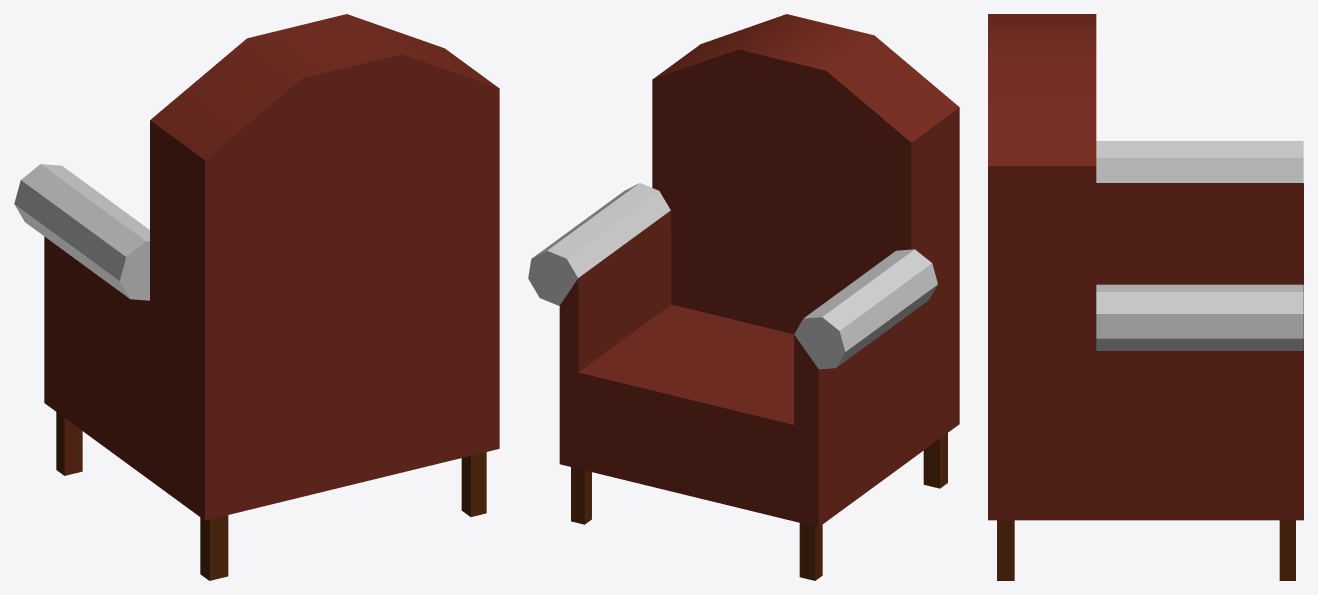
The model's file is Sofa_Chair.fbx.
The picture shows the model from 3 angles, left to right: view 1: azimuth 30°, elevation 25°; view 2: azimuth 150°, elevation 25°; view 3: azimuth 270°, elevation 25°; orthographic projection. The views are drawn at different scales.
Parts seen in each view (by area): view 1: polySurface1; view 2: polySurface1; view 3: polySurface1.
Boxes of the visible parts, bbox=[...] form: polySurface1: bbox=[14, 14, 499, 580]; polySurface1: bbox=[528, 14, 959, 580]; polySurface1: bbox=[988, 14, 1303, 580].
Bounding box in the file's own units: 1.54 × 1.98 × 1.19.
